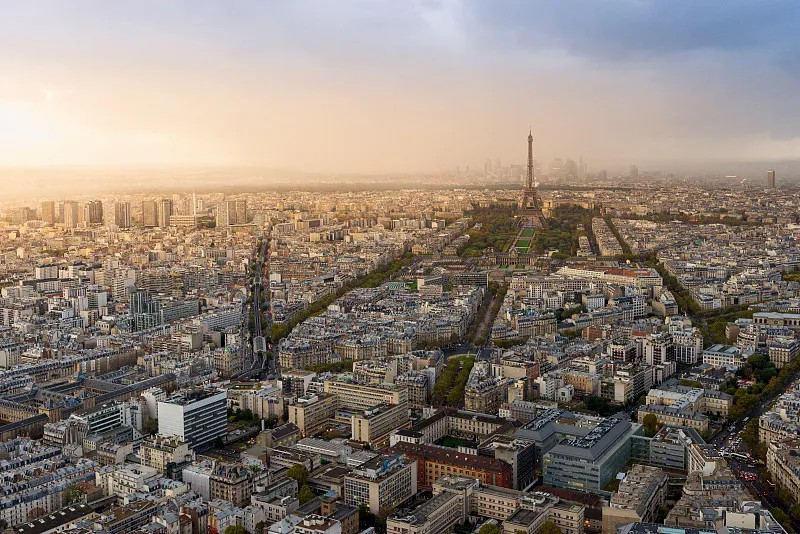Eiffel: (510, 124, 548, 232)
